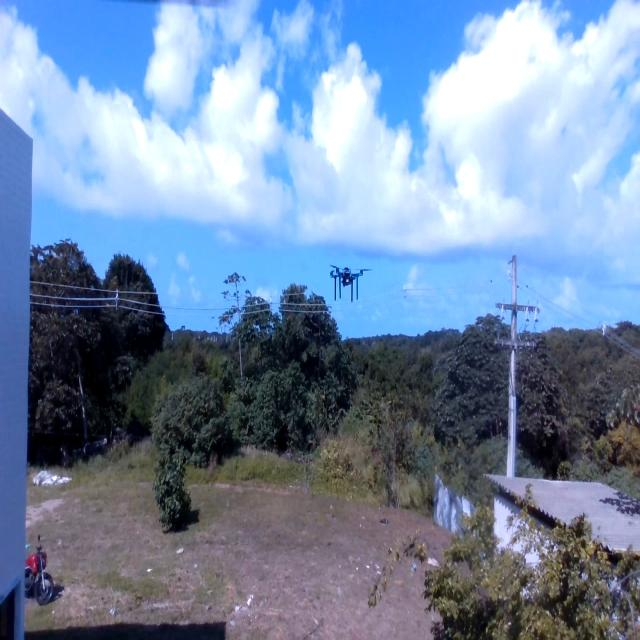-uav-: (323, 252, 377, 308)
